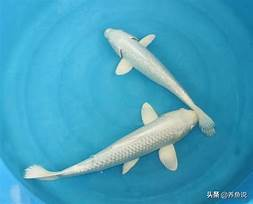white: (23, 101, 199, 183), (103, 27, 217, 137)
